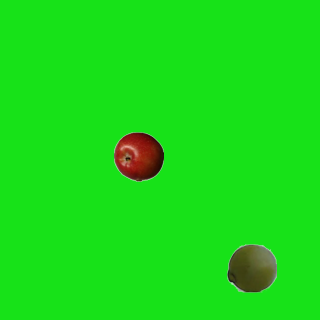Apple Braeburn: (113, 131, 163, 181)
Grape White 4: (226, 242, 276, 292)
